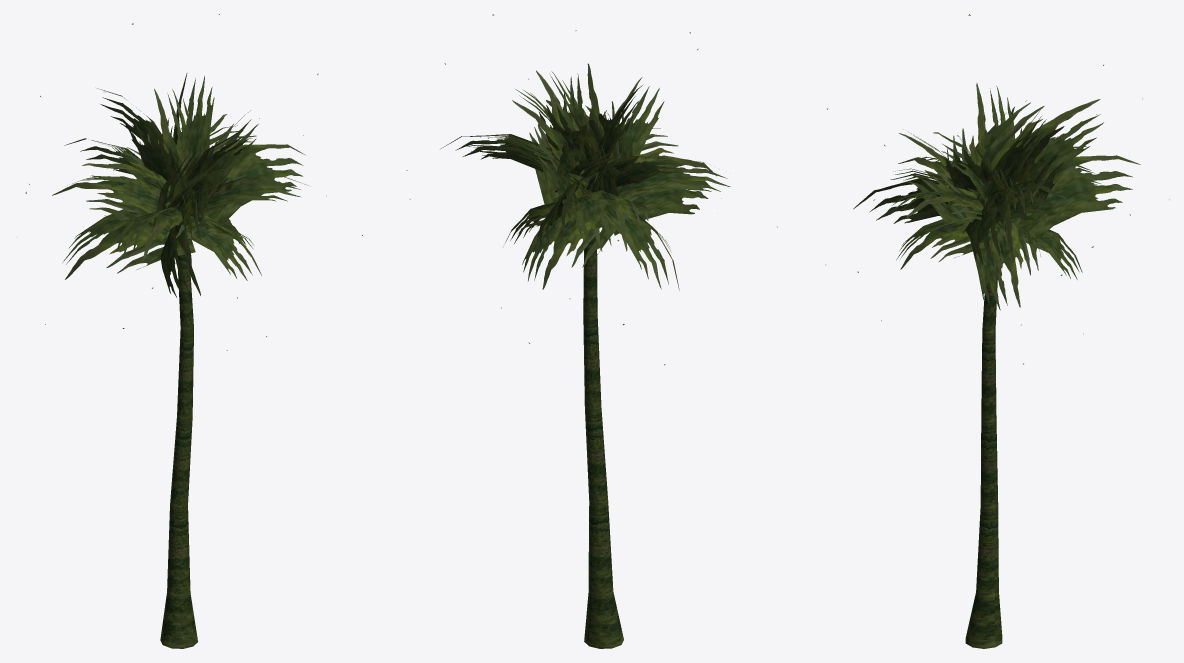
File: p_palm1.glb
3 views of the same model, side by side, from view 1: azimuth 30°, elevation 25°; view 2: azimuth 150°, elevation 25°; view 3: azimuth 270°, elevation 25° (orthographic). The views are drawn at different scales.
Visible parts, largest first — view 1: Palm-01_0_0; view 2: Palm-01_0_0; view 3: Palm-01_0_0.
Part boxes in pixels (x1,y1,x2,y2): Palm-01_0_0: (25, 14, 362, 648); Palm-01_0_0: (406, 14, 777, 648); Palm-01_0_0: (825, 14, 1169, 648).
Size of the model in its own units: 3.47 by 6.38 by 3.59.
1 material, 1 textured.
